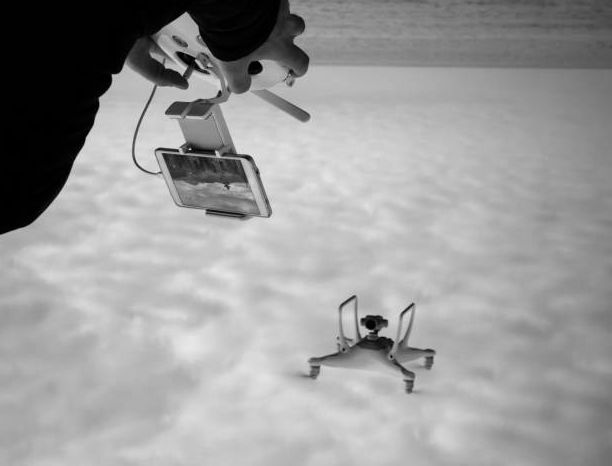Drone: (286, 288, 439, 397)
